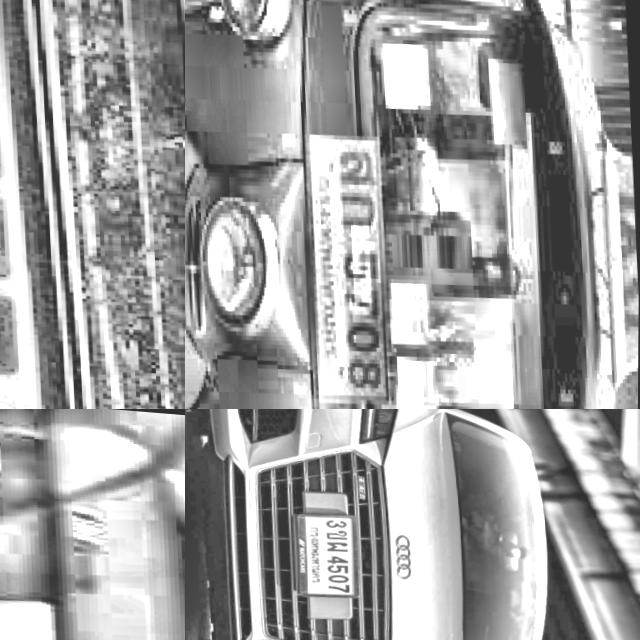license-plate: (0, 0, 128, 409), (302, 129, 392, 393), (292, 505, 366, 595)
